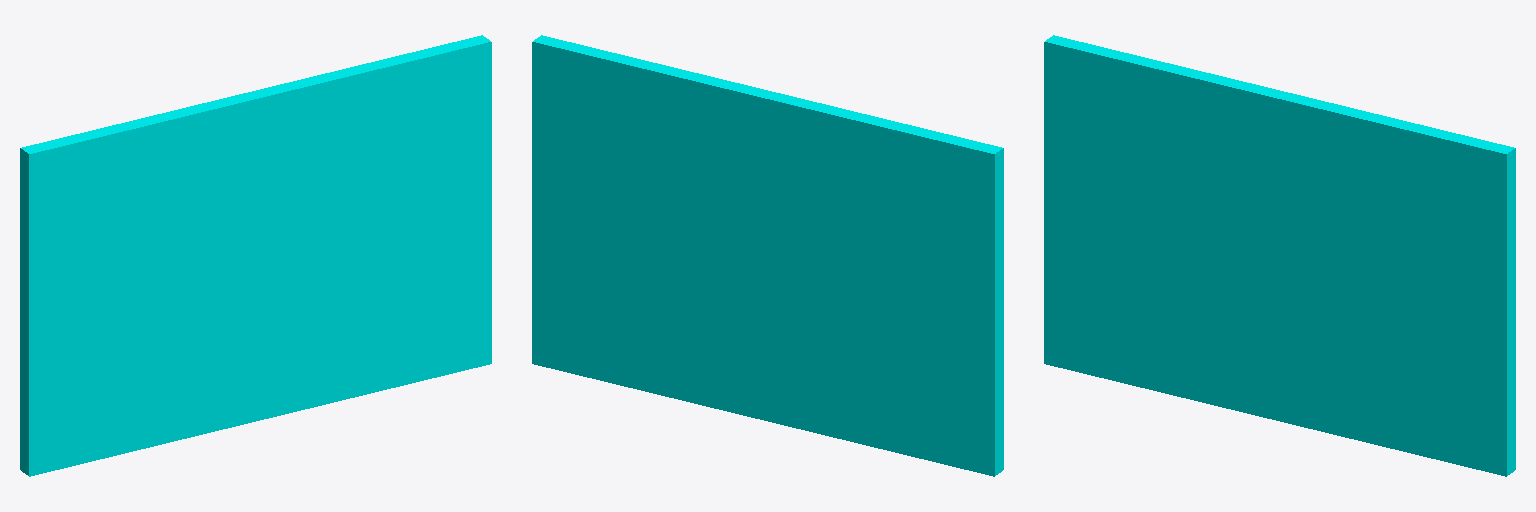
URDF robot description (ball):
<?xml version="0.0" ?>
<robot name="ball">
    <link name="wall">
        <contact>
            <lateral_friction value="1"/>
        </contact>

        <inertial>
            <origin xyz="0 0 0" rpy="0 0 0"/>
            <mass value="0.0"/>
            <inertia ixx="0"  ixy="0"  ixz="0" iyy="0" iyz="0" izz="0" />
        </inertial>

        <visual>
            <origin xyz="0 0 0" rpy="0 0 0" />
            <geometry>
                <box size="3 0.1 2" />
            </geometry>
            <material name="Cyan">
                <color rgba="0 1.0 1.0 1.0"/>
            </material>
        </visual>

        <collision>
            <origin xyz="0 0 0" rpy="0 0 0"/>
            <geometry>
                <box size="3 0.1 2" />
            </geometry>
        </collision>
    </link>
</robot>

--- Facts derived from the render (not from the file) ---
3 views of the same robot in one strip: view 1: azimuth 30°, elevation 25°; view 2: azimuth 150°, elevation 25°; view 3: azimuth 330°, elevation 25° (orthographic).
Model ball with 1 links and 0 joints (none), rooted at wall, posed every joint at zero.
Visible links, largest first — view 1: wall; view 2: wall; view 3: wall.
Link boxes in pixels (x1,y1,x2,y2): wall: [20, 35, 491, 476]; wall: [532, 35, 1003, 476]; wall: [1044, 35, 1515, 476].
Bounding box of the posed robot: 3 × 0.1 × 2 m (x, y, z).
Geometry: primitives only (box / cylinder / sphere), no mesh files.